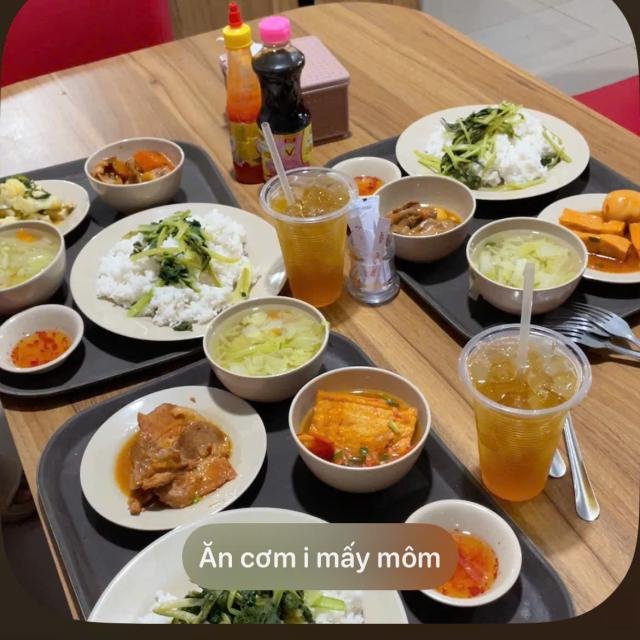thit_kho: (124, 413, 231, 501)
